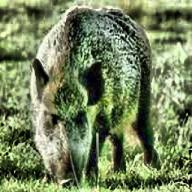boar: (28, 5, 160, 189)
